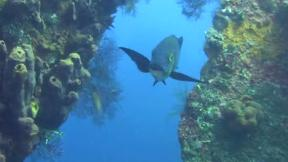Lutjanidae -Snappers-: (117, 20, 207, 92)
